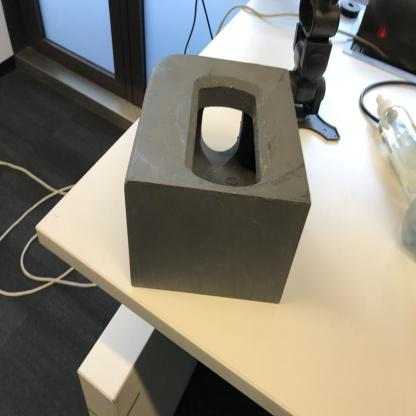CornerCasting: (123, 49, 315, 312)
